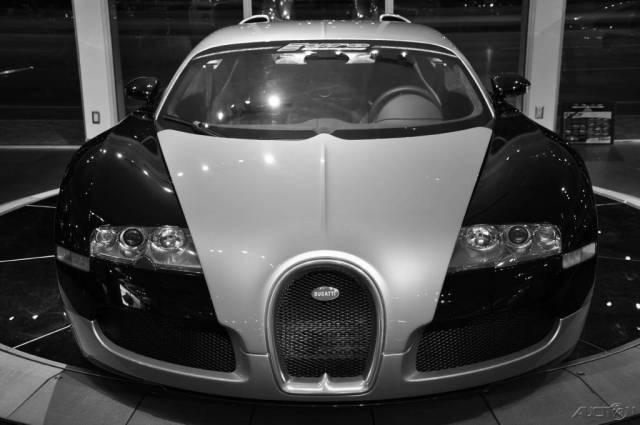car: (56, 16, 597, 399)
